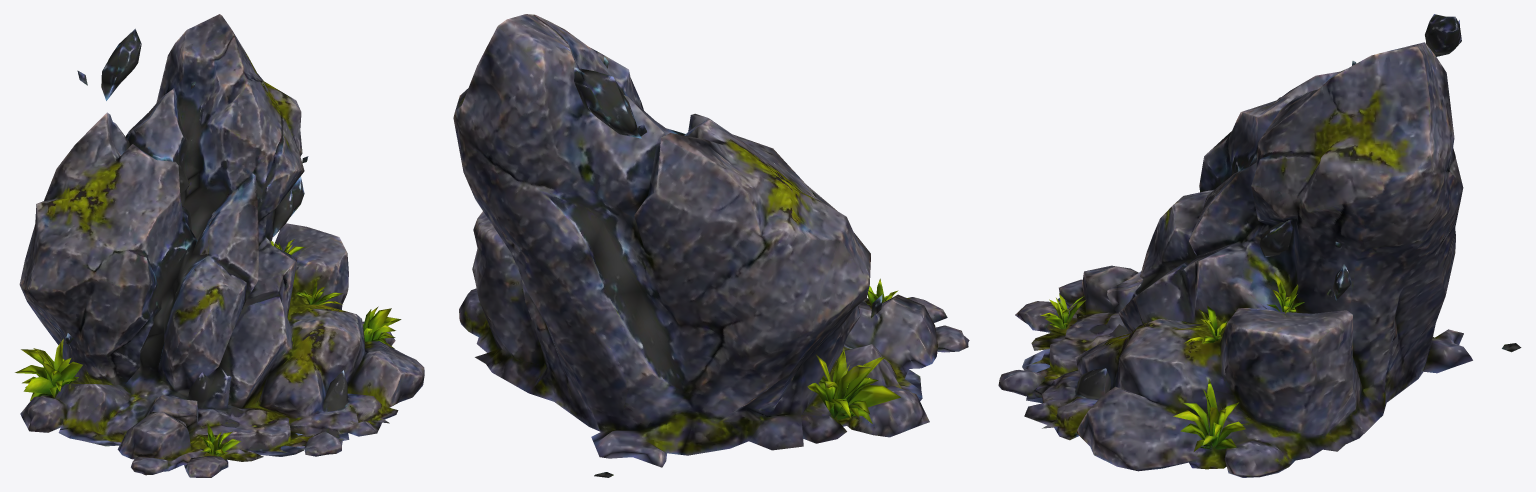
File: splittereisen-leer.glb
The picture shows the model from 3 angles, left to right: view 1: azimuth 30°, elevation 25°; view 2: azimuth 150°, elevation 25°; view 3: azimuth 270°, elevation 25°; orthographic projection. The views are drawn at different scales.
Parts seen in each view (by area): view 1: baum; view 2: baum; view 3: baum.
Part boxes in pixels (left/top/right/bottom): baum: left=15, top=14, right=424, bottom=477; baum: left=453, top=14, right=969, bottom=477; baum: left=998, top=14, right=1521, bottom=477.
Size of the model in its own units: 1.88 by 1.5 by 1.91.
Materials: 1 (1 with a texture image).
